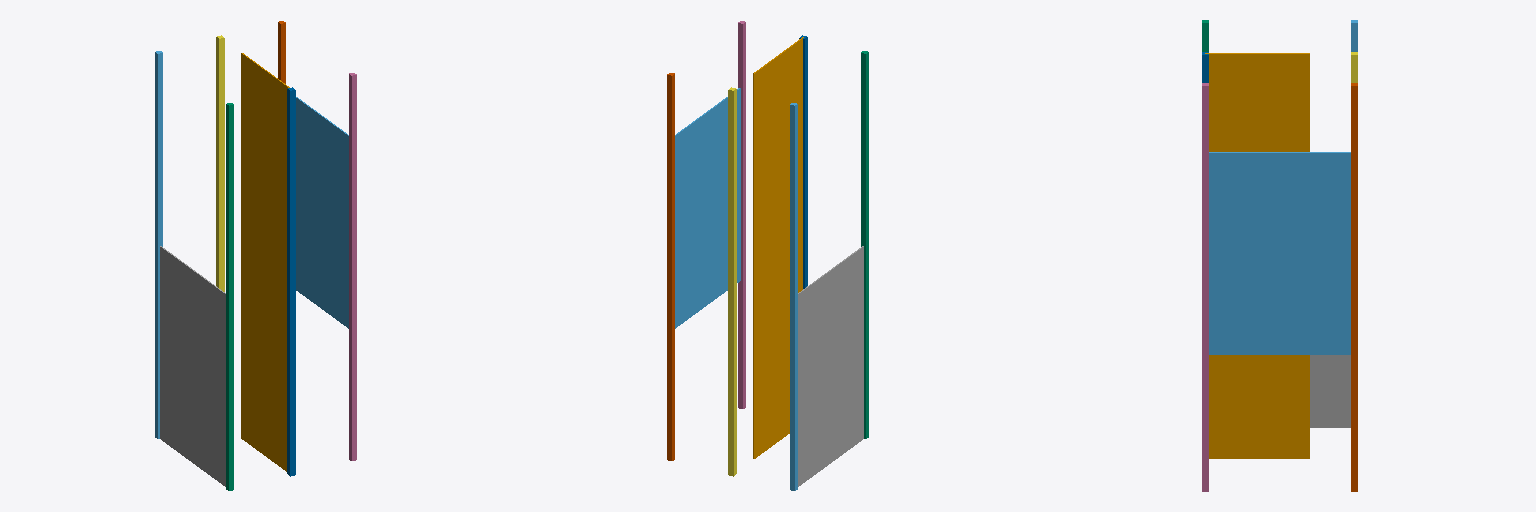
URDF robot description (walls):
<robot name="walls">
   <material name="Brown">
     <color rgba="83./255. 53./255. 10./255."/>
   </material>
   <material name="White">
     <color rgba="1 1 1"/>
   </material>
   <material name="Grey">
     <color rgba=".3 .3 .3"/>
   </material>
   <material name="Red">
     <color rgba="1 0 0"/>
   </material>
   <link name="world"/>

   <link name="l1">
   	<inertial>
   		<mass value=".5" />
   		<origin xyz="0 0 1.5" rpy="0 0 0"/>
		  <inertia ixx="10"  ixy="0"  ixz="0" iyy="10" iyz="0" izz="1" />
   	</inertial>
  	<visual>
      <origin xyz="0 0 1.5" rpy="0 0 0" />
      <geometry>
        <box size="0.042 0.042 3"/>
      </geometry>
      <material name="White"/>
    </visual>
    <collision>
      <origin xyz="0 0 1.5" rpy="0 0 0" />
      <geometry>
        <box size="0.042 0.042 3"/>
      </geometry>
    </collision>
   </link>
   <joint name="l1_weld" type="fixed">
    <parent link="world"/>
      <child link="l1"/>
    <origin xyz="-.5 .5 0" rpy="0 0 0" />
   </joint>
   <link name="l2">
   	<inertial>
   		<mass value=".5" />
   		<origin xyz="0 0 1.5" rpy="0 0 0"/>
		  <inertia ixx="10"  ixy="0"  ixz="0" iyy="10" iyz="0" izz="1" />
   	</inertial>
  	<visual>
      <origin xyz="0 0 1.5" rpy="0 0 0" />
      <geometry>
        <box size="0.042 0.042 3"/>
      </geometry>
      <material name="White"/>
    </visual>
    <collision>
      <origin xyz="0 0 1.5" rpy="0 0 0" />
      <geometry>
        <box size="0.042 0.042 3"/>
      </geometry>
    </collision>
   </link>
   <joint name="l2_weld" type="fixed">
    <parent link="world"/>
      <child link="l2"/>
    <origin xyz="-.5 -.5 0" rpy="0 0 0" />
   </joint>

   <link name="l3">
   	<inertial>
   		<mass value=".5" />
   		<origin xyz="0 0 1.5" rpy="0 0 0"/>
		  <inertia ixx="10"  ixy="0"  ixz="0" iyy="10" iyz="0" izz="1" />
   	</inertial>
  	<visual>
      <origin xyz="0 0 1.5" rpy="0 0 0" />
      <geometry>
        <box size="0.042 0.042 3"/>
      </geometry>
      <material name="White"/>
    </visual>
    <collision>
      <origin xyz="0 0 1.5" rpy="0 0 0" />
      <geometry>
        <box size="0.042 0.042 3"/>
      </geometry>
    </collision>
   </link>
   <joint name="l3_weld" type="fixed">
    <parent link="world"/>
      <child link="l3"/>
    <origin xyz="0 .5 0" rpy="0 0 0" />
   </joint>
   <link name="l4">
   	<inertial>
   		<mass value=".5" />
   		<origin xyz="0 0 1.5" rpy="0 0 0"/>
		  <inertia ixx="10"  ixy="0"  ixz="0" iyy="10" iyz="0" izz="1" />
   	</inertial>
  	<visual>
      <origin xyz="0 0 1.5" rpy="0 0 0" />
      <geometry>
        <box size="0.042 0.042 3"/>
      </geometry>
      <material name="White"/>
    </visual>
    <collision>
      <origin xyz="0 0 1.5" rpy="0 0 0" />
      <geometry>
        <box size="0.042 0.042 3"/>
      </geometry>
    </collision>
   </link>
   <joint name="l4_weld" type="fixed">
    <parent link="world"/>
      <child link="l4"/>
    <origin xyz="0 -.5 0" rpy="0 0 0" />
   </joint>

   <link name="l5">
   	<inertial>
   		<mass value=".5" />
   		<origin xyz="0 0 1.5" rpy="0 0 0"/>
		  <inertia ixx="10"  ixy="0"  ixz="0" iyy="10" iyz="0" izz="1" />
   	</inertial>
  	<visual>
      <origin xyz="0 0 1.5" rpy="0 0 0" />
      <geometry>
        <box size="0.042 0.042 3"/>
      </geometry>
      <material name="White"/>
    </visual>
    <collision>
      <origin xyz="0 0 1.5" rpy="0 0 0" />
      <geometry>
        <box size="0.042 0.042 3"/>
      </geometry>
    </collision>
   </link>
   <joint name="l5_weld" type="fixed">
    <parent link="world"/>
      <child link="l5"/>
    <origin xyz=".5 .5 0" rpy="0 0 0" />
   </joint>
   <link name="l6">
   	<inertial>
   		<mass value=".5" />
   		<origin xyz="0 0 1.5" rpy="0 0 0"/>
		  <inertia ixx="10"  ixy="0"  ixz="0" iyy="10" iyz="0" izz="1" />
   	</inertial>
  	<visual>
      <origin xyz="0 0 1.5" rpy="0 0 0" />
      <geometry>
        <box size="0.042 0.042 3"/>
      </geometry>
      <material name="White"/>
    </visual>
    <collision>
      <origin xyz="0 0 1.5" rpy="0 0 0" />
      <geometry>
        <box size="0.042 0.042 3"/>
      </geometry>
    </collision>
   </link>
   <joint name="l6_weld" type="fixed">
    <parent link="world"/>
      <child link="l6"/>
    <origin xyz=".5 -.5 0" rpy="0 0 0" />
   </joint>

   <link name="wall1">
   	<inertial>
   		<mass value=".5" />
   		<origin xyz="0 0 .75" rpy="0 0 0"/>
		  <inertia ixx="10"  ixy="0"  ixz="0" iyy="10" iyz="0" izz="10" />
   	</inertial>
  	<visual>
      <origin xyz="0 0 .75" rpy="0 0 0" />
      <geometry>
        <box size=".01 1 1.5"/>
      </geometry>
      <material name="Red"/>
    </visual>
    <collision>
      <origin xyz="0 0 .75" rpy="0 0 0" />
      <geometry>
        <box size=".01 1 1.5"/>
      </geometry>
    </collision>
   </link>
   <joint name="wall1_weld" type="fixed">
    <parent link="world"/>
      <child link="wall1"/>
    <origin xyz="-.5 0 0" rpy="0 0 0" />
   </joint>

   <link name="wall2">
   	<inertial>
   		<mass value=".5" />
   		<origin xyz="0 0 .75" rpy="0 0 0"/>
		  <inertia ixx="10"  ixy="0"  ixz="0" iyy="10" iyz="0" izz="10" />
   	</inertial>
  	<visual>
      <origin xyz="0 0 1.5" rpy="0 0 0" />
      <geometry>
        <box size=".01 .7 3"/>
      </geometry>
      <material name="Red"/>
    </visual>
    <collision>
      <origin xyz="0 0 1.5" rpy="0 0 0" />
      <geometry>
        <box size=".01 .7 3"/>
      </geometry>
    </collision>
   </link>
   <joint name="wall2_weld" type="fixed">
    <parent link="world"/>
      <child link="wall2"/>
    <origin xyz="0 -.15 0" rpy="0 0 0" />
   </joint>

   <link name="wall3">
   	<inertial>
   		<mass value=".5" />
   		<origin xyz="0 0 .75" rpy="0 0 0"/>
		  <inertia ixx="10"  ixy="0"  ixz="0" iyy="10" iyz="0" izz="10" />
   	</inertial>
  	<visual>
      <origin xyz="0 0 .75" rpy="0 0 0" />
      <geometry>
        <box size=".01 1 1.5"/>
      </geometry>
      <material name="Red"/>
    </visual>
    <collision>
      <origin xyz="0 0 .75" rpy="0 0 0" />
      <geometry>
        <box size=".01 1 1.5"/>
      </geometry>
    </collision>
   </link>
   <joint name="wall3_weld" type="fixed">
    <parent link="world"/>
      <child link="wall3"/>
    <origin xyz=".5 0 1" rpy="0 0 0" />
   </joint>


</robot>

--- Facts derived from the render (not from the file) ---
The picture shows the robot from 3 angles, left to right: view 1: azimuth 30°, elevation 25°; view 2: azimuth 150°, elevation 25°; view 3: azimuth 270°, elevation 25°; orthographic projection.
Model walls with 10 links and 9 joints (9 fixed), rooted at world, posed every joint at zero.
Visible links, largest first — view 1: wall2, wall1, wall3, l4, l6, l2, l1, l3; view 2: wall2, wall1, wall3, l3, l5, l1, l2, l6, l4; view 3: wall3, wall2, wall1, l5, l6.
Link boxes in pixels (x1,y1,x2,y2): wall2: [241, 53, 289, 471]; wall1: [160, 246, 225, 486]; wall3: [296, 97, 348, 328]; l4: [287, 87, 295, 476]; l6: [349, 73, 356, 460]; l2: [226, 103, 233, 490]; l1: [155, 51, 162, 438]; l3: [216, 35, 224, 291]; wall2: [753, 37, 803, 458]; wall1: [798, 246, 863, 486]; wall3: [675, 88, 740, 328]; l3: [728, 87, 736, 476]; l5: [667, 73, 674, 460]; l1: [790, 103, 797, 490]; l2: [861, 51, 868, 438]; l6: [738, 21, 745, 408]; l4: [799, 35, 807, 288]; wall3: [1209, 152, 1350, 354]; wall2: [1205, 53, 1309, 458]; wall1: [1310, 355, 1350, 427]; l5: [1351, 83, 1357, 491]; l6: [1202, 83, 1208, 491].
Size in the robot's own frame: 1.04 by 1.04 by 3 metres.
Geometry: primitives only (box / cylinder / sphere), no mesh files.
